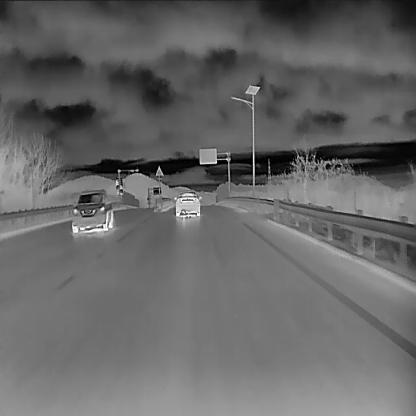car: (70, 185, 113, 233), (173, 189, 201, 216)
